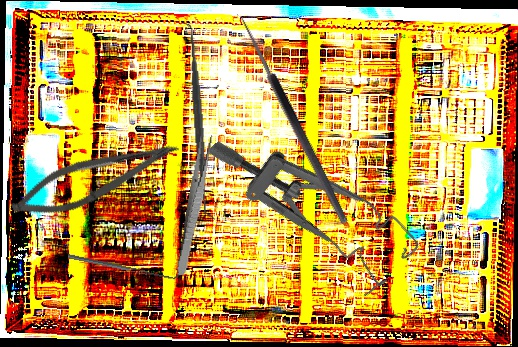Dressing Forceps: (175, 133, 214, 277)
Hook Surgical: (225, 12, 351, 231)
Micro Scissor: (5, 120, 185, 234)
Spatula Surgical: (180, 19, 218, 223), (67, 250, 181, 282)
Speculum: (205, 87, 424, 312)
